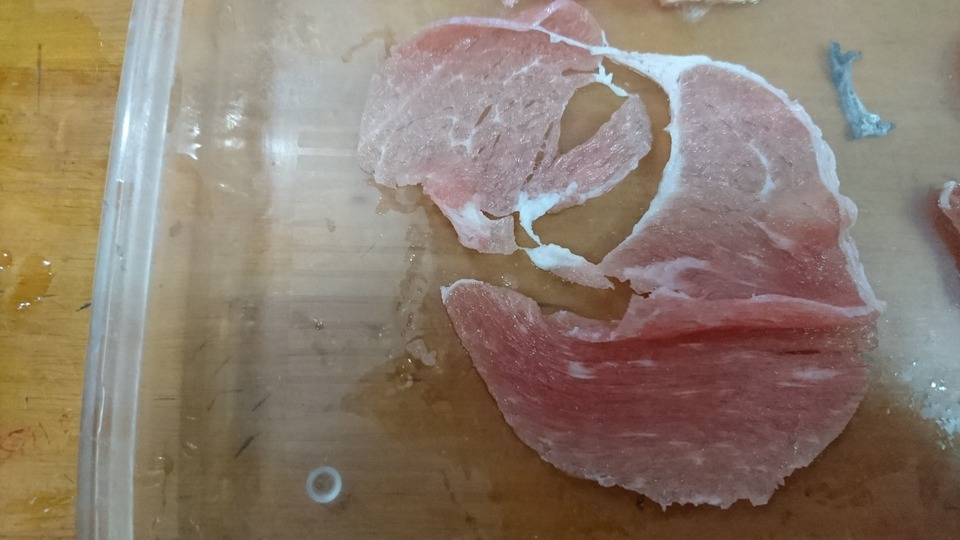restructured meat: (366, 26, 860, 505)
